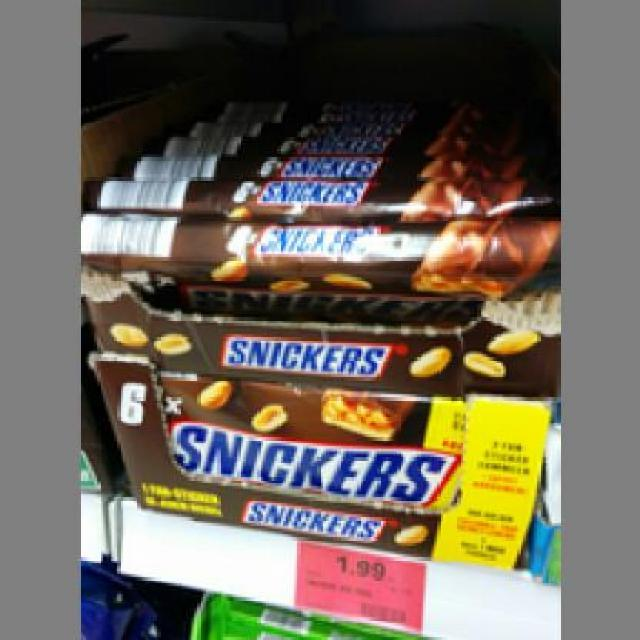Chocolate: (77, 206, 557, 323), (146, 368, 466, 506), (79, 172, 555, 212)
